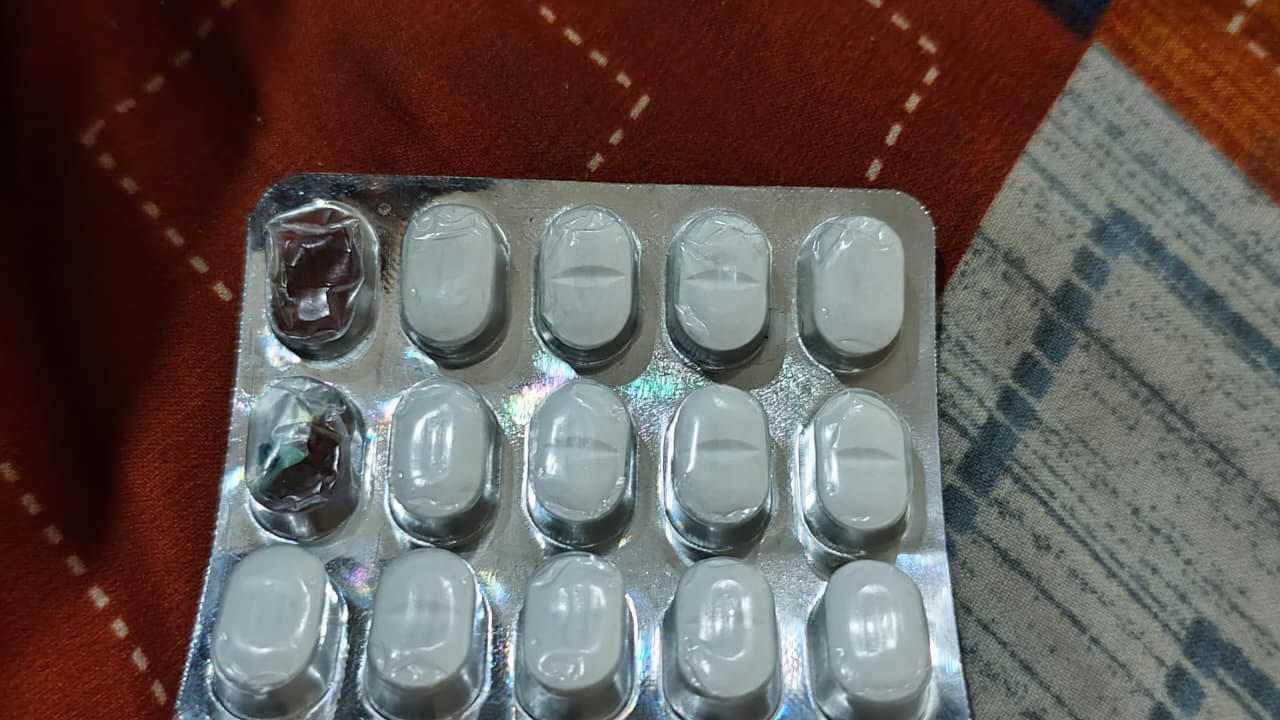MedicineStrip: (245, 185, 935, 720)
